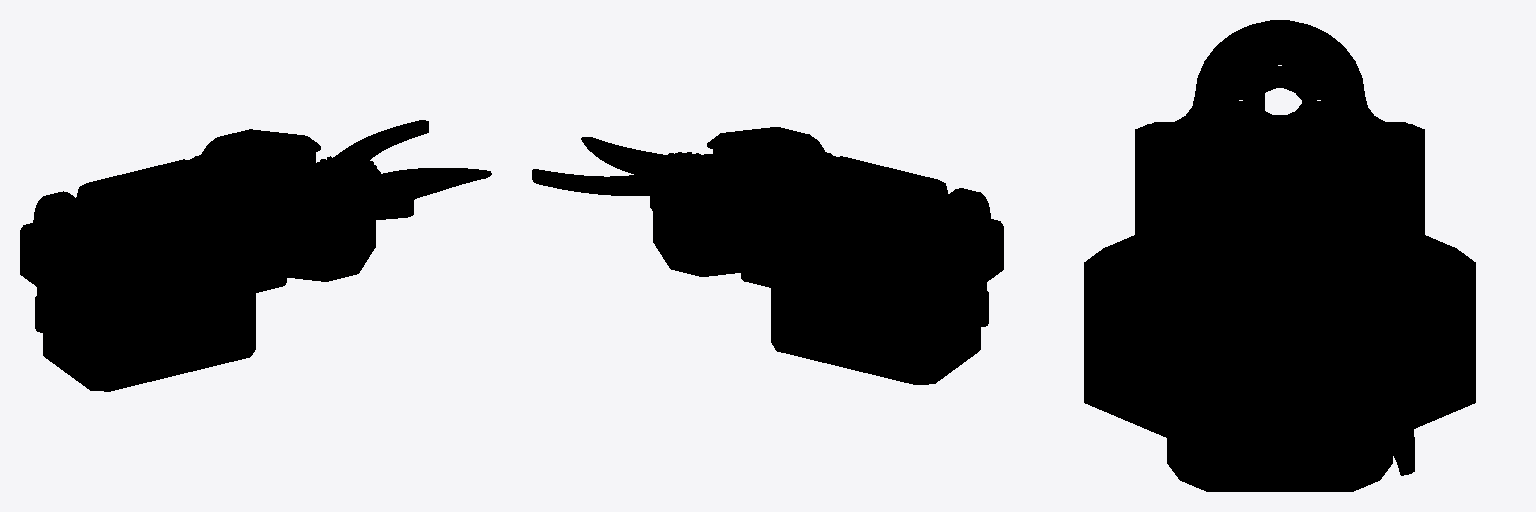
The robot description file, URDF, robot "pusher.urdf":
<?xml version="0.0" ?>
<robot name="pusher.urdf">
  <link name="baseLink">
    <contact>
      <friction_anchor/>
      <lateral_friction value="1"/>
      <rolling_friction value="0.001"/>
      <spinning_friction value="0.0001"/>

      <!-- <contact_cfm value="1.0"/>
      <contact_erp value="1.0"/> -->
    </contact>
    <inertial>
       <origin rpy="0 0 0" xyz="0 0 0"/>
       <mass value="0.1"/>
       <inertia ixx="1" ixy="0" ixz="0" iyy="1" iyz="0" izz="1"/>
    </inertial>
    <visual>
      <origin rpy="0 0 0" xyz="0 0 0.0025"/>
      
      <geometry>
        <mesh filename="pusher.obj" scale=".001 .001 .001"/>
      </geometry>
      
      <material name="white">
        <color rgba="0. 0. 0. 1."/>
      </material>
    </visual>
    <collision>
      <origin rpy="0 0 0" xyz="0 0 0.0025"/>

      <geometry>
        <mesh filename="pusher.obj" scale=".001 .001 .001"/>
      </geometry>
    </collision>
  </link>
</robot>

--- Render facts (derived) ---
Views: 3 orthographic renders of the robot side by side, from view 1: azimuth 30°, elevation 25°; view 2: azimuth 150°, elevation 25°; view 3: azimuth 270°, elevation 25°.
Robot: pusher.urdf — 1 links, 0 joints (none); root link baseLink; default pose: all joints at 0.
Links seen in each view (by area): view 1: baseLink; view 2: baseLink; view 3: baseLink.
Link boxes in pixels (x1=…): baseLink: x1=20, y1=120, x2=491, y2=391; baseLink: x1=532, y1=127, x2=1003, y2=384; baseLink: x1=1084, y1=20, x2=1475, y2=491.
Size in the robot's own frame: 0.177 by 0.081 by 0.0738 metres.
1 mesh visuals loaded from 1 distinct referenced files (1 OBJ).
